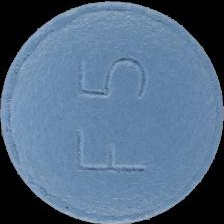61786-230: (0, 0, 224, 224)
